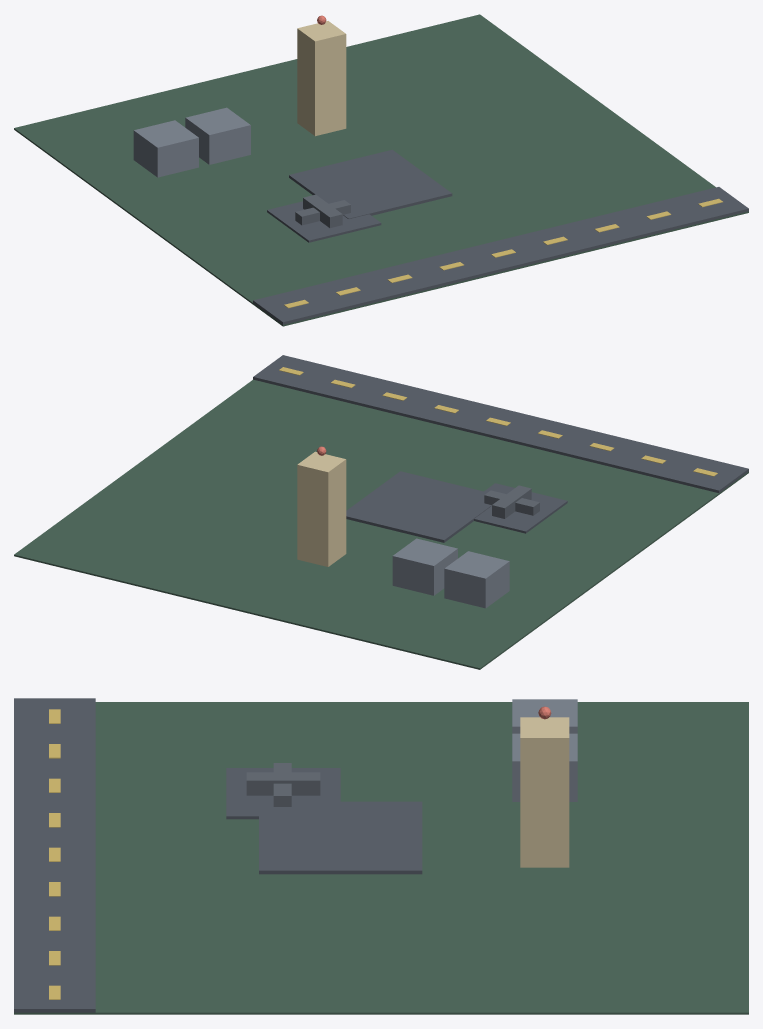
Rendered from stage_05.glb.
3 renders of one model, top to bottom at view 1: azimuth 30°, elevation 25°; view 2: azimuth 150°, elevation 25°; view 3: azimuth 270°, elevation 25°, orthographic. The views are drawn at different scales.
Parts seen in each view (by area): view 1: geometry_0; view 2: geometry_0; view 3: geometry_0.
Part boxes in pixels (x1,y1,x2,y2): geometry_0: (14,14,748,326); geometry_0: (14,355,748,669); geometry_0: (14,698,748,1014).
Size of the model in its own units: 9 by 2.06 by 9.
